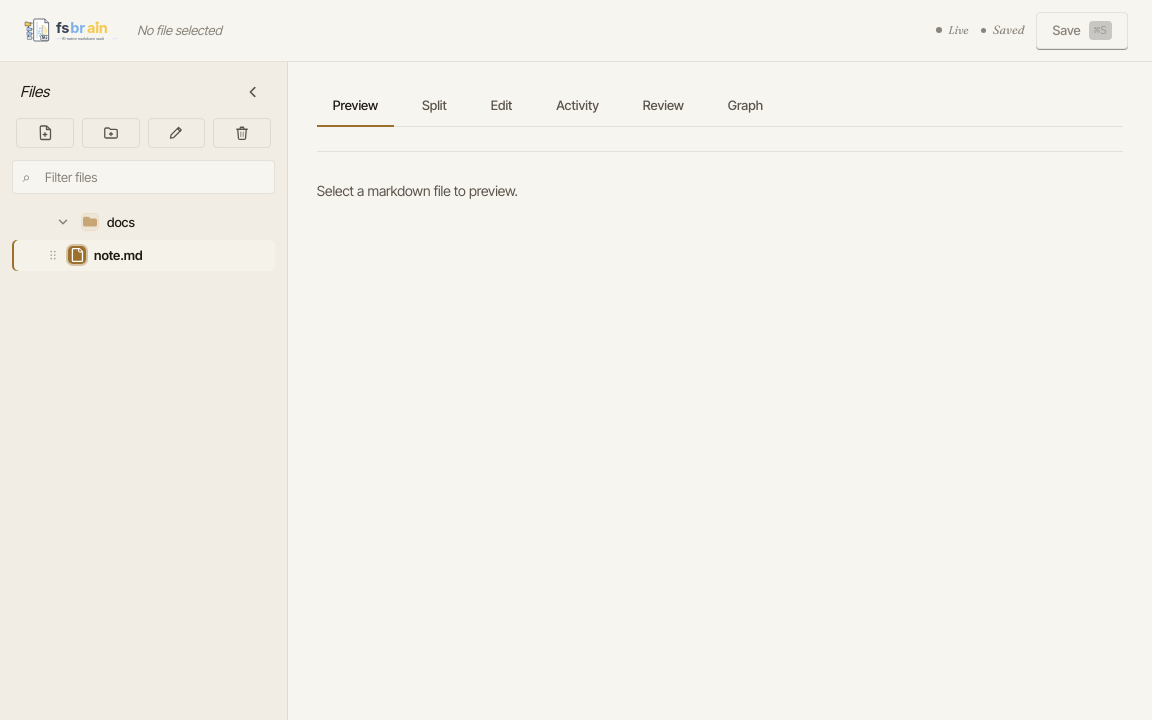
Scenario: App › keeps rename success when refreshing remapped file returns not found
Click the list item "note.md": point(94, 255) x1=46 y1=246 x2=142 y2=264
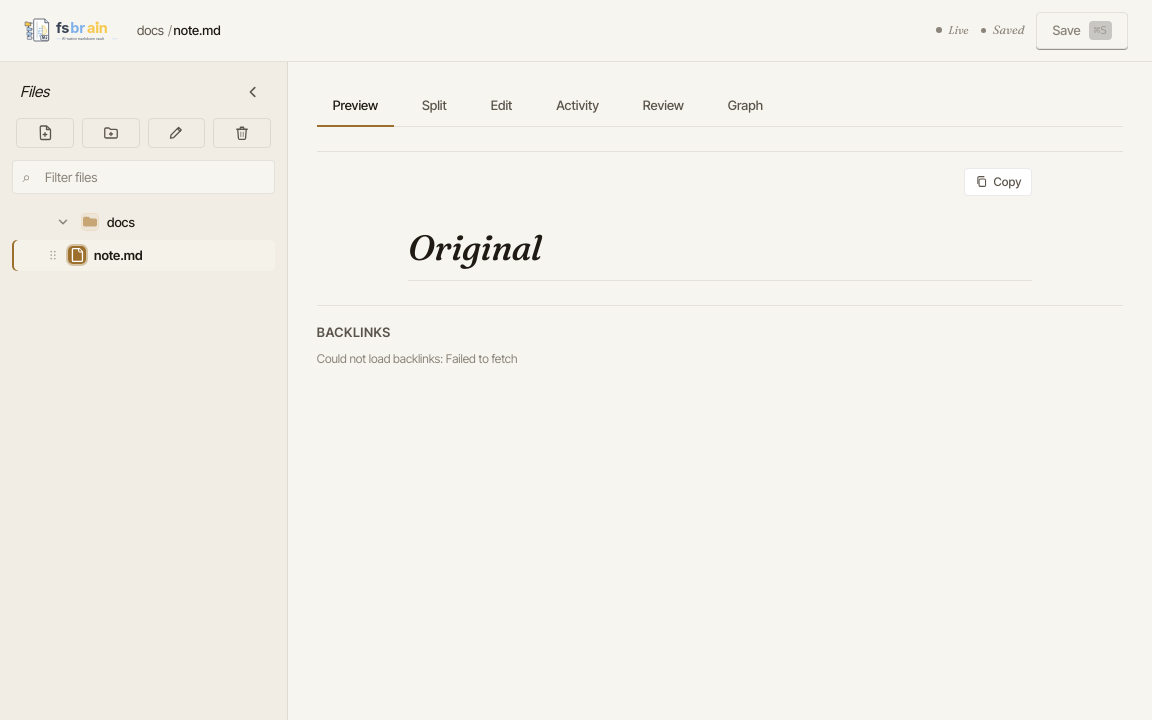
Click the list item "docs": point(95, 222) x1=56 y1=213 x2=135 y2=231
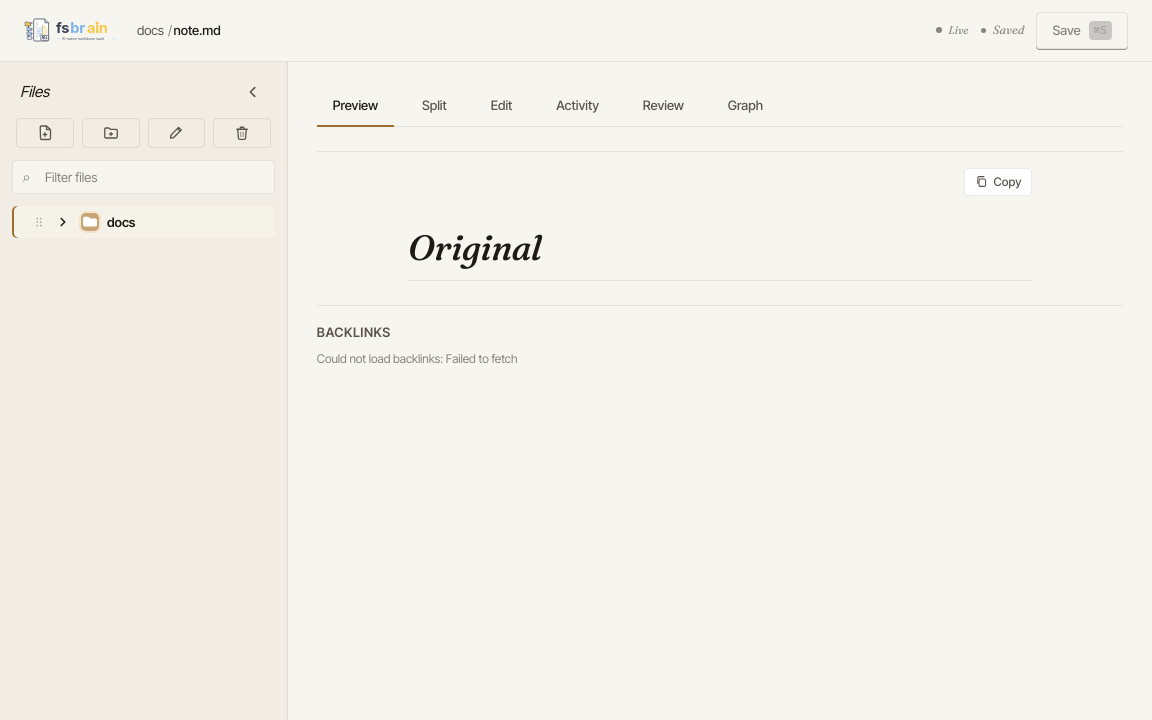
Click the button named "Rename": point(176, 132) x1=148 y1=118 x2=205 y2=148
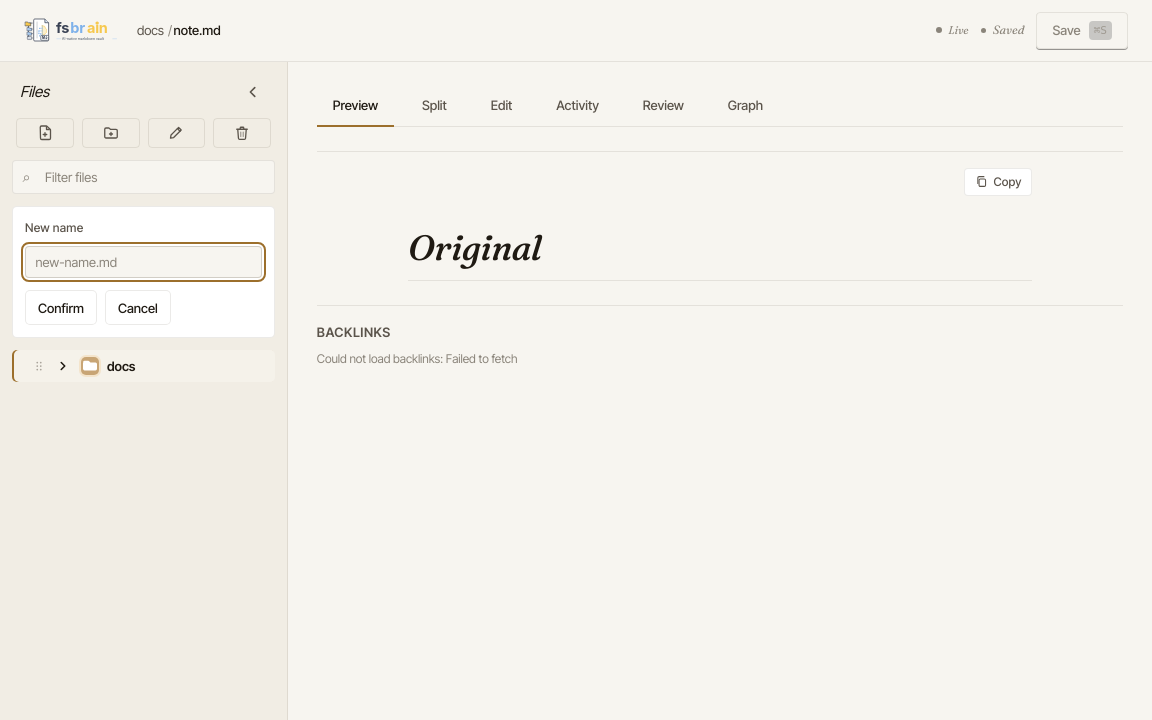
In the field labelled "New name": point(144, 262) x1=25 y1=246 x2=262 y2=278, type "renamed"
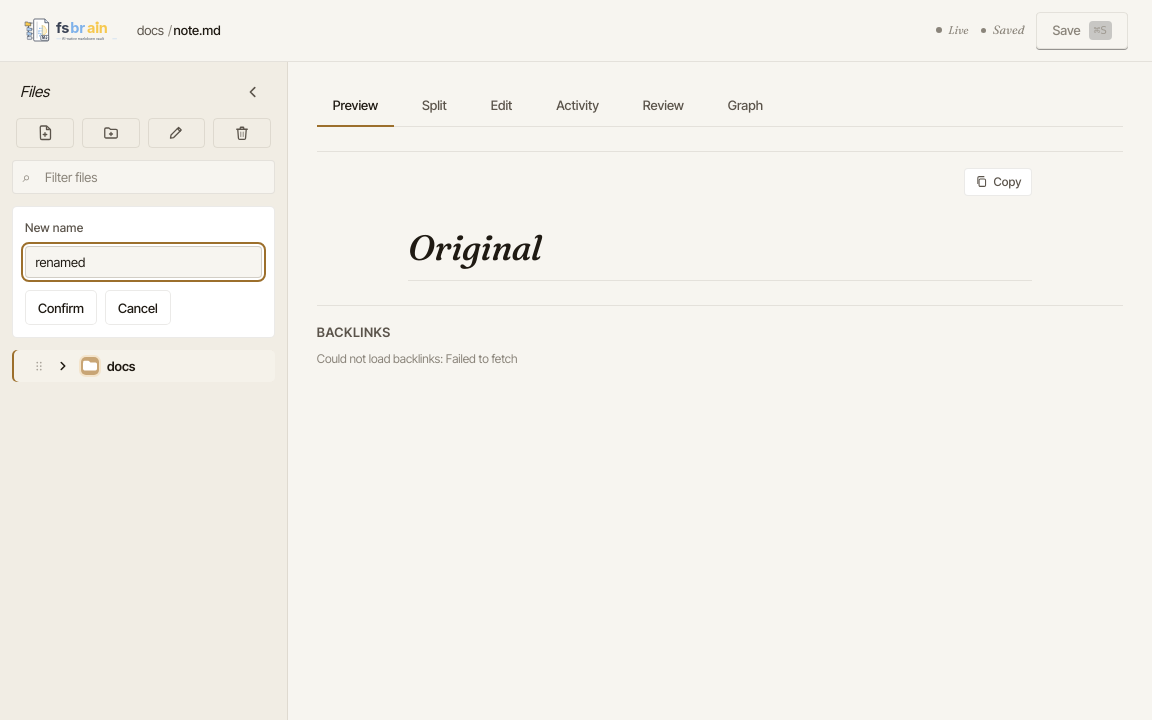
Click the button "Confirm": point(61, 308) x1=25 y1=290 x2=97 y2=325
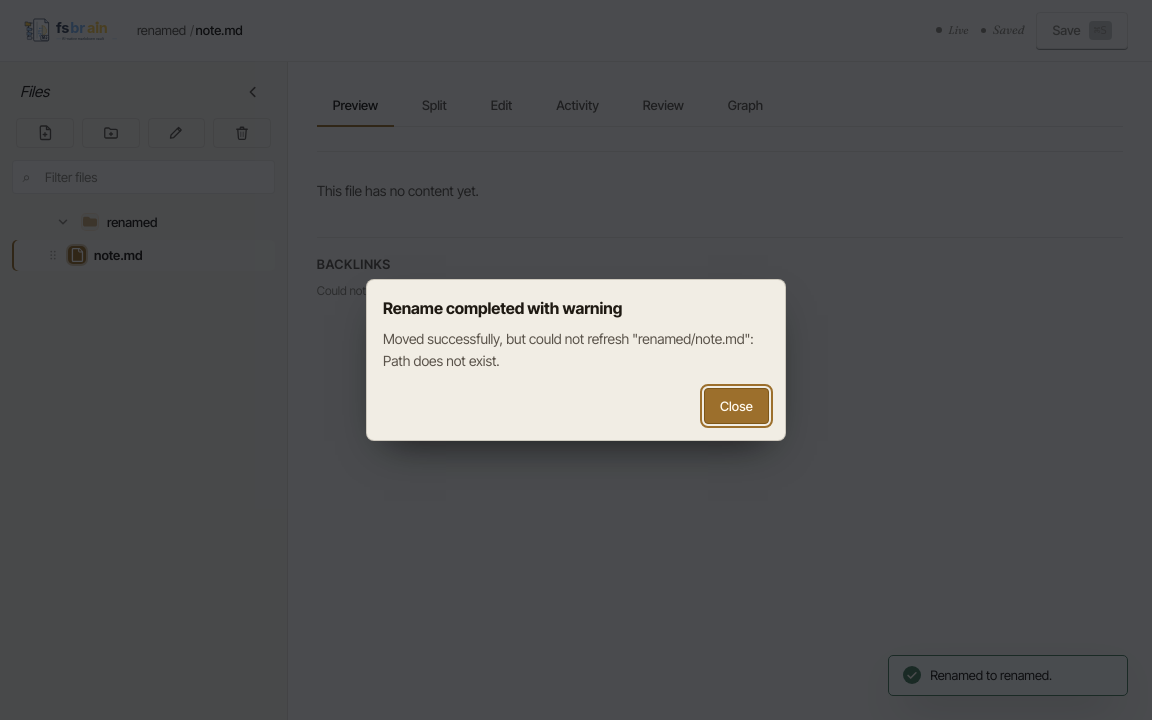
Expected: the text "Renamed to renamed." is shown, x1=930 y1=665 x2=1052 y2=685
Expected: the list item "renamed" is shown, x1=56 y1=213 x2=157 y2=231
Expected: the dialog "Rename completed with warning" is shown, x1=366 y1=279 x2=786 y2=441
